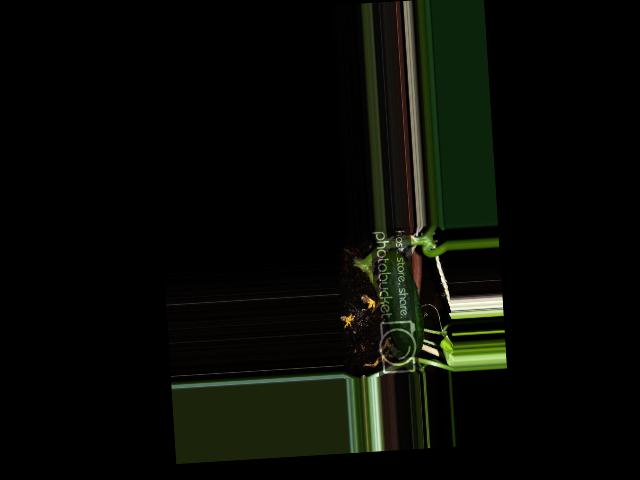cucumber: (379, 249, 425, 357)
